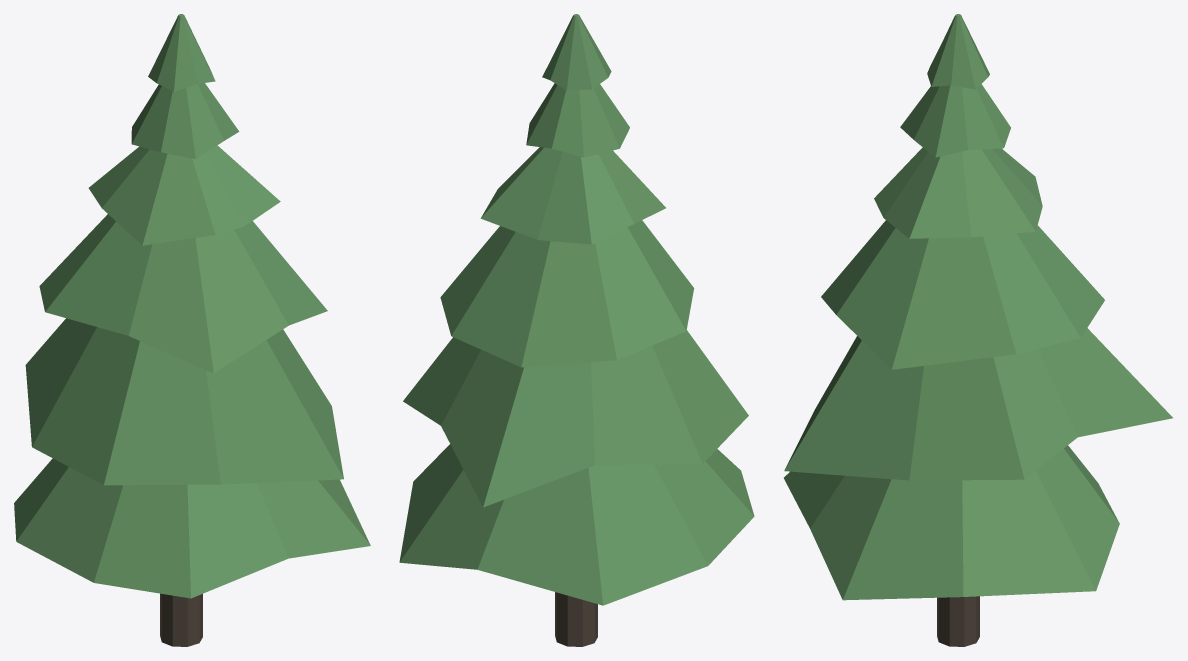
The model's file is stablo2.fbx.
3 renders of one model, left to right at view 1: azimuth 30°, elevation 25°; view 2: azimuth 150°, elevation 25°; view 3: azimuth 270°, elevation 25°, orthographic.
Parts seen in each view (by area): view 1: Cylinder.026; view 2: Cylinder.026; view 3: Cylinder.026.
Boxes of the visible parts, x1,y1,x2,y2 form: Cylinder.026: (14, 14, 370, 646); Cylinder.026: (399, 14, 754, 646); Cylinder.026: (784, 14, 1172, 646).
Size of the model in its own units: 1255 by 2418 by 1372.
